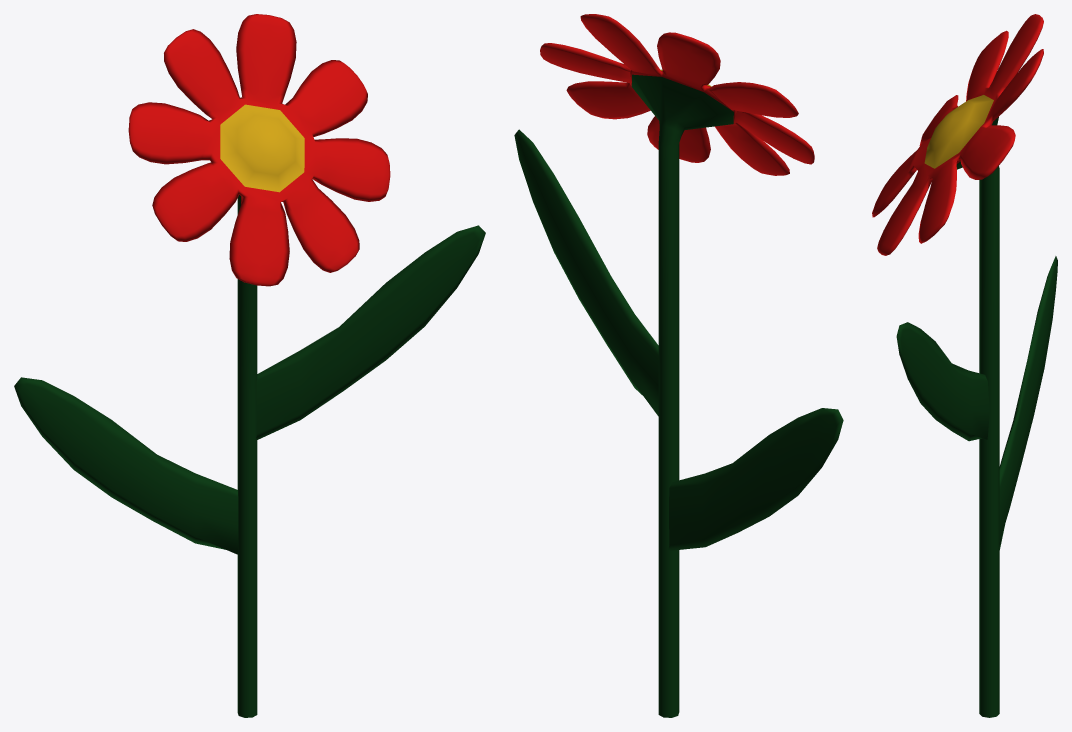
3 renders of one model, left to right at view 1: azimuth 30°, elevation 25°; view 2: azimuth 150°, elevation 25°; view 3: azimuth 270°, elevation 25°, orthographic. The views are drawn at different scales.
Parts seen in each view (by area): view 1: flower; view 2: flower; view 3: flower.
Boxes of the visible parts, x1,y1,x2,y2 form: flower: [14, 14, 485, 717]; flower: [514, 14, 843, 717]; flower: [872, 14, 1057, 717].
Size of the model in its own units: 0.2233 by 0.3658 by 0.0909.
